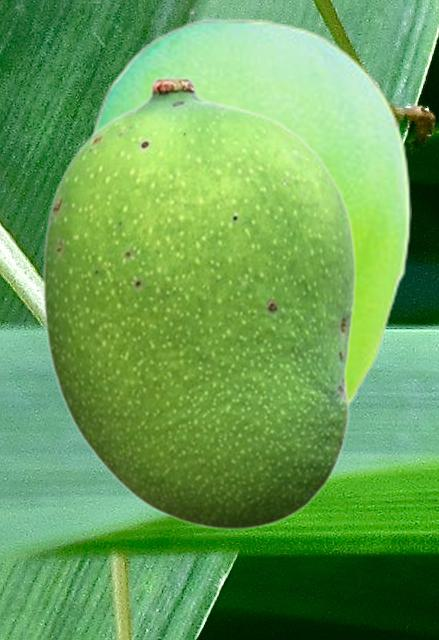green_mango: (41, 75, 355, 530), (86, 17, 410, 410)
